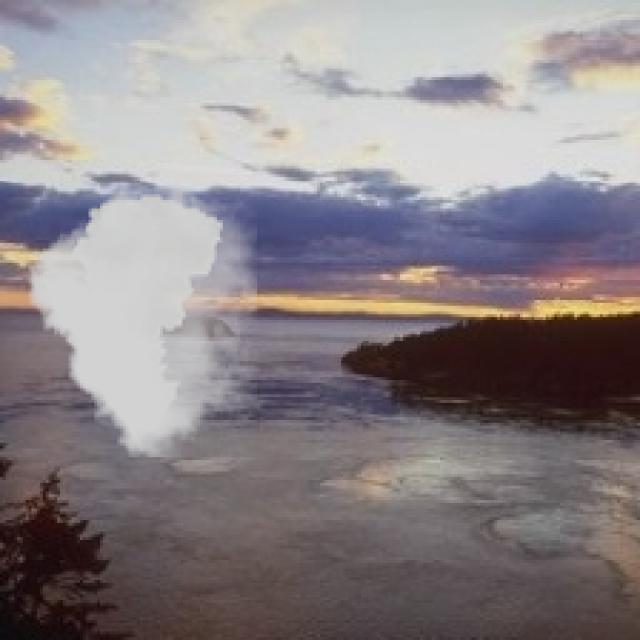Smoke: (29, 182, 258, 458)
